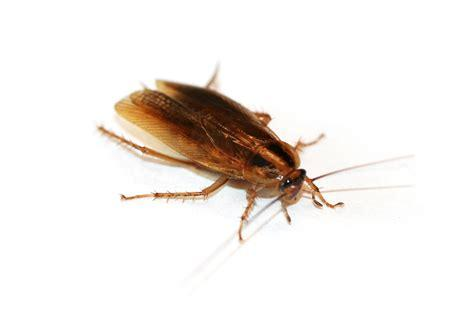cockroach: (112, 76, 310, 208)
